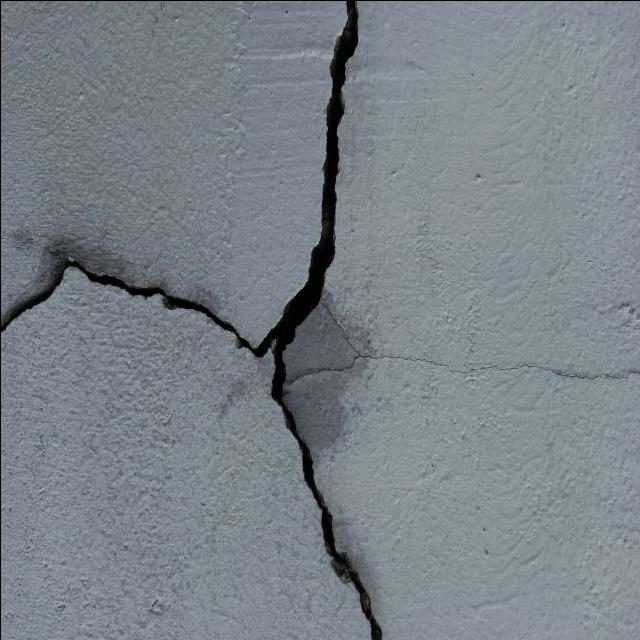SurfaceCrack: (228, 0, 415, 639)
